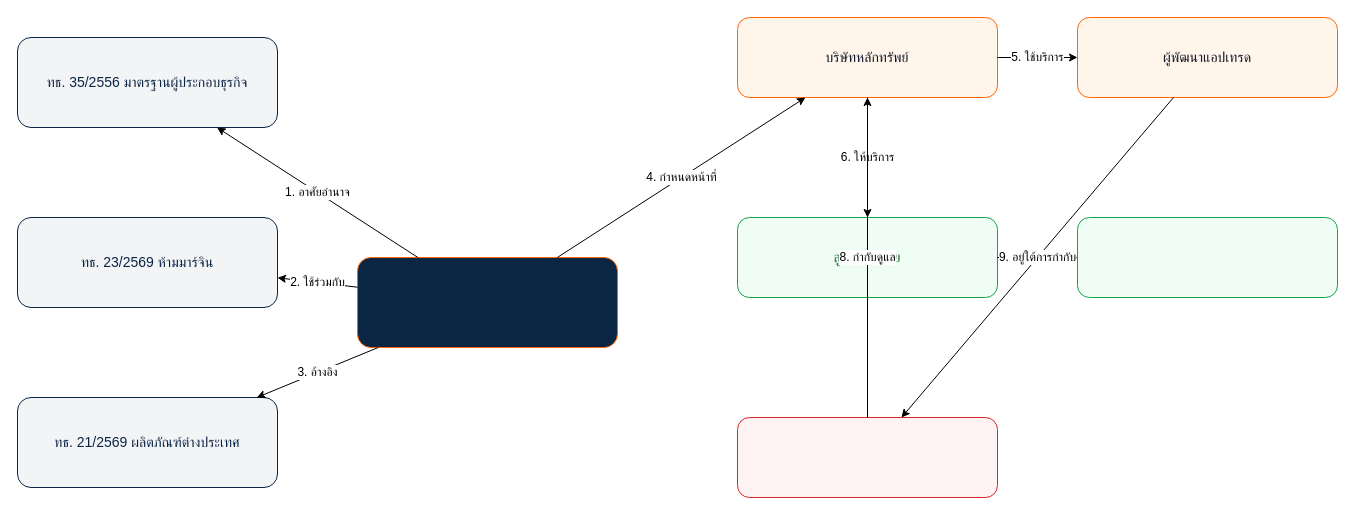
This 1355x515 diagram has some shape labels left out. The shapes that lost their labels are listed below. From the top down, each one's centre as x and y in pixels, then its label:
At [1207,257]: "ผู้ลงทุนทั่วไป".
At [487,302]: "สธ.18/2569 ให้ลูกค้ารับรู้ความเสี่ยง Crypto ETF ก่อนซื้อขาย".
At [867,457]: "ก.ล.ต.".
